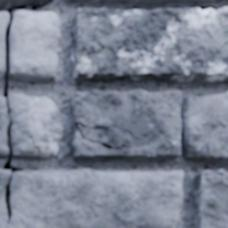brick: (73, 8, 227, 83), (71, 91, 227, 161), (193, 171, 227, 227), (125, 0, 166, 3), (0, 0, 52, 2), (83, 0, 115, 2), (196, 0, 217, 1)
broken_brick: (0, 169, 184, 227), (9, 93, 63, 160), (10, 10, 60, 82), (0, 94, 7, 160), (0, 11, 7, 69)
crack: (0, 2, 47, 225), (74, 121, 139, 153)
